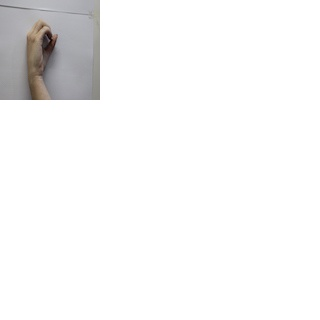rock: (18, 16, 58, 80)
